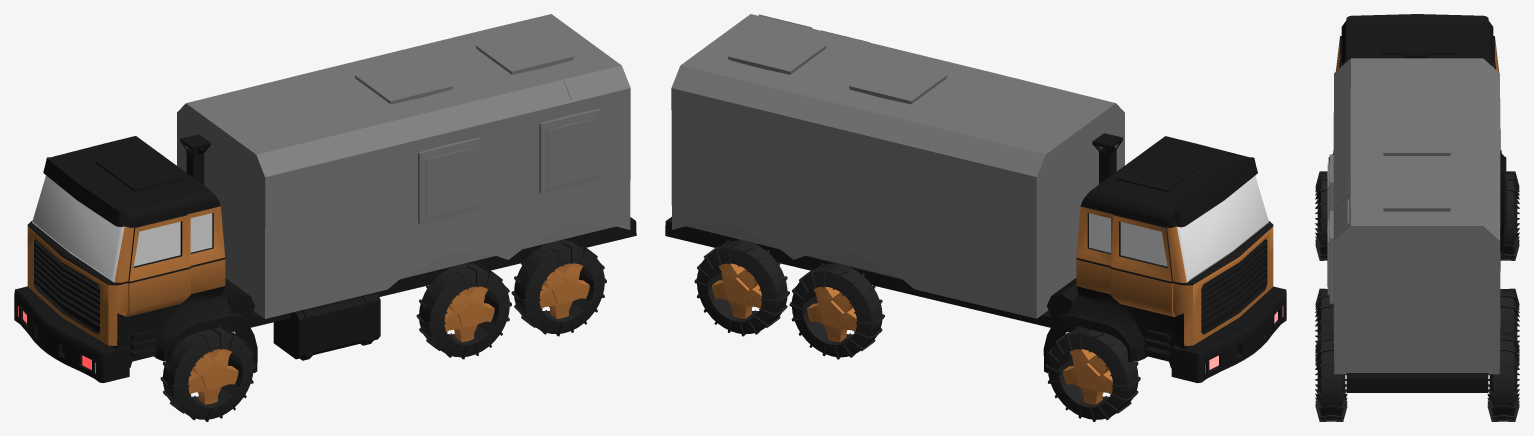
File: Car.fbx
The picture shows the model from 3 angles, left to right: view 1: azimuth 30°, elevation 25°; view 2: azimuth 150°, elevation 25°; view 3: azimuth 270°, elevation 25°; orthographic projection. The views are drawn at different scales.
Visible parts, largest first — view 1: Жилой модуль, Car, колеса.002, колеса.003, колеса.001, Бак, Труба; view 2: Жилой модуль, Car, колеса.002, колеса.003, колеса.001, Труба; view 3: Жилой модуль, Car, колеса.003, колеса.001, колеса.002, Труба.
Boxes of the visible parts, <box> form: Жилой модуль: <box>177,14,630,318</box>; Car: <box>14,136,636,382</box>; колеса.002: <box>416,263,511,359</box>; колеса.003: <box>511,239,606,336</box>; колеса.001: <box>160,326,255,421</box>; Бак: <box>273,292,380,360</box>; Труба: <box>180,134,254,320</box>; Жилой модуль: <box>671,14,1124,318</box>; Car: <box>665,136,1286,383</box>; колеса.002: <box>789,262,884,359</box>; колеса.003: <box>694,239,789,336</box>; колеса.001: <box>1045,326,1140,421</box>; Труба: <box>1047,133,1122,319</box>; Жилой модуль: <box>1327,58,1500,374</box>; Car: <box>1328,14,1507,392</box>; колеса.003: <box>1315,332,1519,421</box>; колеса.001: <box>1315,171,1519,260</box>; колеса.002: <box>1315,288,1519,366</box>; Труба: <box>1404,46,1426,58</box>.
Bounding box in the file's own units: 325 × 137 × 111.
